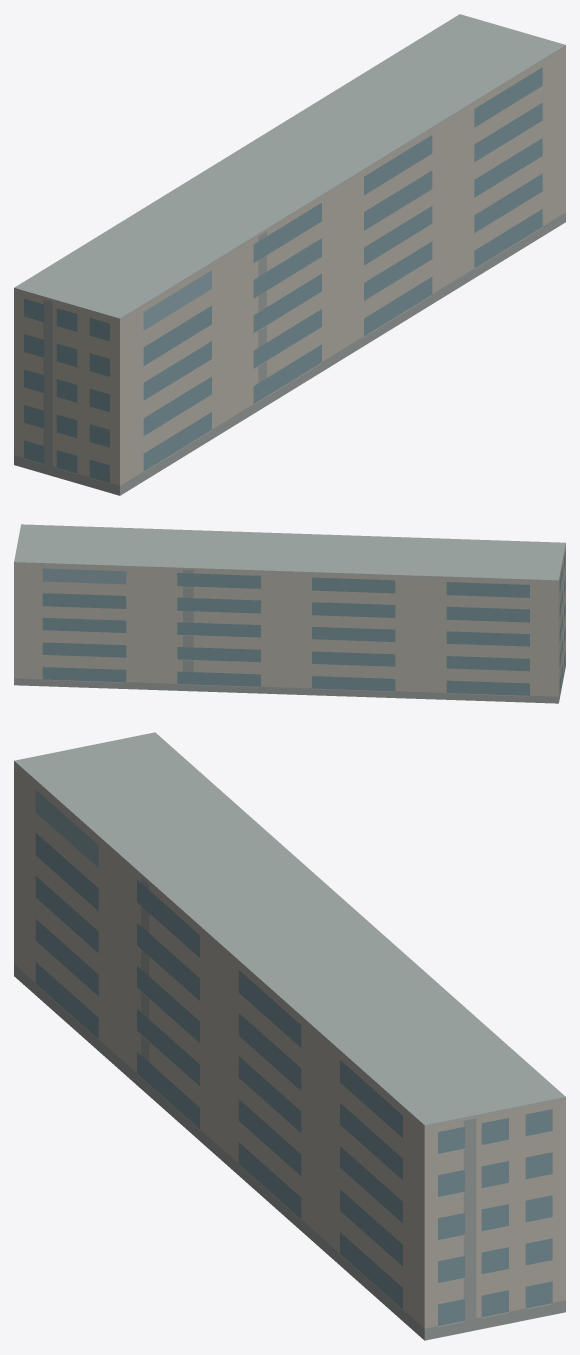
File: residential-de737fd6-6893-4289-a512-2feb117d27d4.glb
The picture shows the model from 3 angles, top to bottom: view 1: azimuth 30°, elevation 25°; view 2: azimuth 150°, elevation 25°; view 3: azimuth 270°, elevation 25°; orthographic projection. The views are drawn at different scales.
Visible parts, largest first — view 1: residential-de737fd6-6893-4289-a512-2feb117d27d4.tmp; view 2: residential-de737fd6-6893-4289-a512-2feb117d27d4.tmp; view 3: residential-de737fd6-6893-4289-a512-2feb117d27d4.tmp.
Part boxes in pixels (left/top/right/bottom): residential-de737fd6-6893-4289-a512-2feb117d27d4.tmp: left=14, top=14, right=565, bottom=495; residential-de737fd6-6893-4289-a512-2feb117d27d4.tmp: left=14, top=524, right=565, bottom=703; residential-de737fd6-6893-4289-a512-2feb117d27d4.tmp: left=14, top=732, right=565, bottom=1340.
Size of the model in its own units: 59.68 by 15.25 by 35.42.
